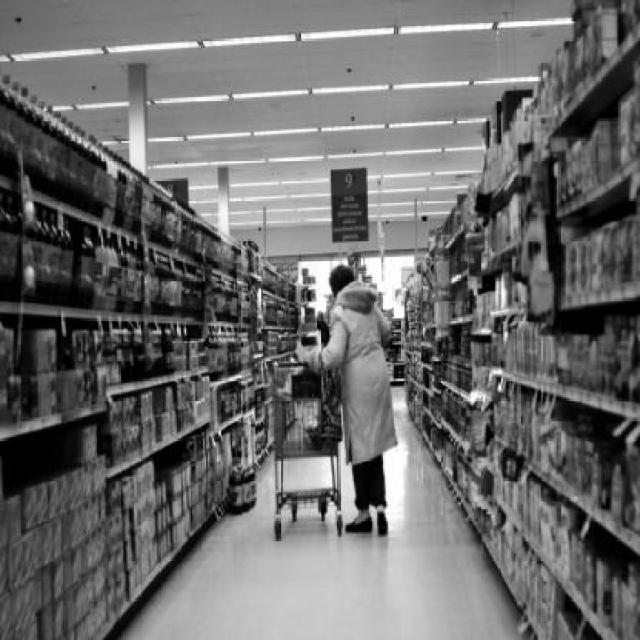Person: (316, 247, 407, 548)
